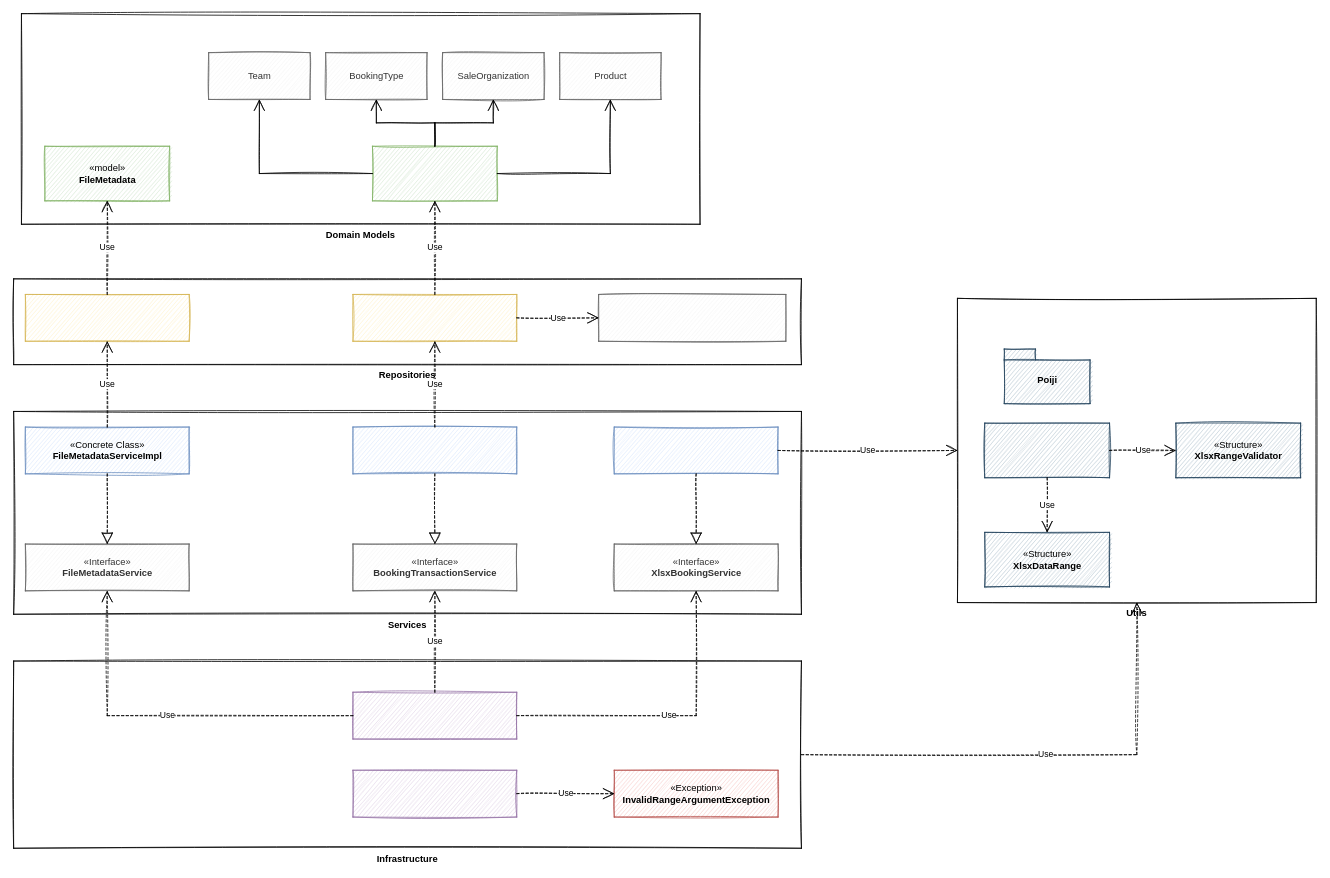
The diagram is 1330 pixels wide and 878 high, and some of its shapes have lost their labels. Each missing label, with the centre of its shape:
"«Concrete Class» BookingTransactionServiceImp" belongs at (x=434, y=450).
"«Concrete Class» XlsxBookingServiceImpl" belongs at (x=695, y=450).
"«ControllerAdvice» RestControllerExceptionHandler" belongs at (x=434, y=793).
"«Controller» XlsxController" belongs at (x=434, y=715).
"«Helper» XlsxDataRange" belongs at (x=1047, y=450).
"«model» BookingTransaction" belongs at (x=434, y=173).
"«Repository» BookingTransactionRepo" belongs at (x=434, y=317).
"«Repository» FileMetadataRepo" belongs at (x=107, y=317).
"«Specification» BookingTransactionSpecification" belongs at (x=692, y=317).
